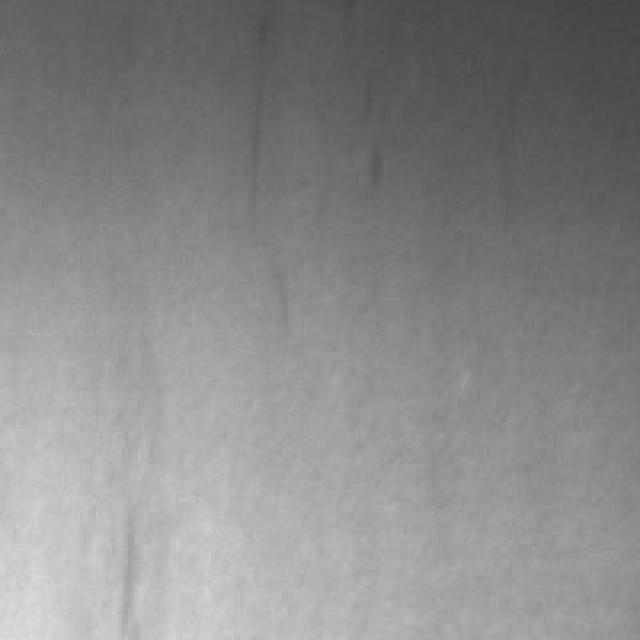inclusion: (205, 3, 301, 205), (93, 492, 150, 634)
